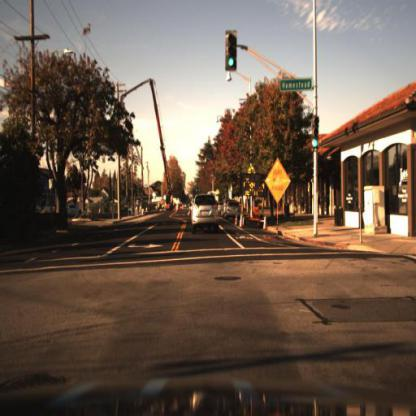car: (190, 191, 221, 234), (66, 200, 89, 220), (223, 201, 242, 224)
trafficLight-Green: (225, 30, 239, 74), (310, 115, 321, 152)
truck: (123, 75, 177, 209)
